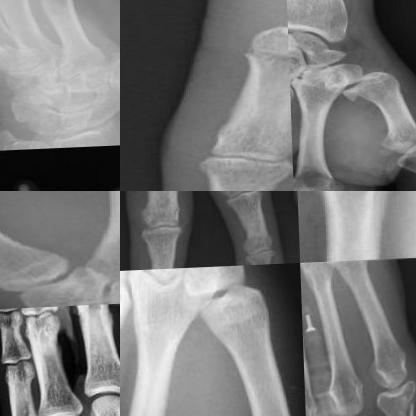fracture: (232, 40, 288, 95), (337, 80, 377, 108), (380, 402, 415, 415)
